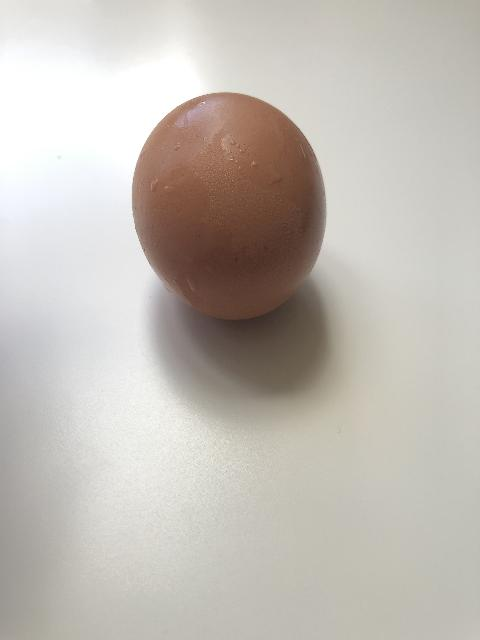Sano: (130, 90, 328, 321)
